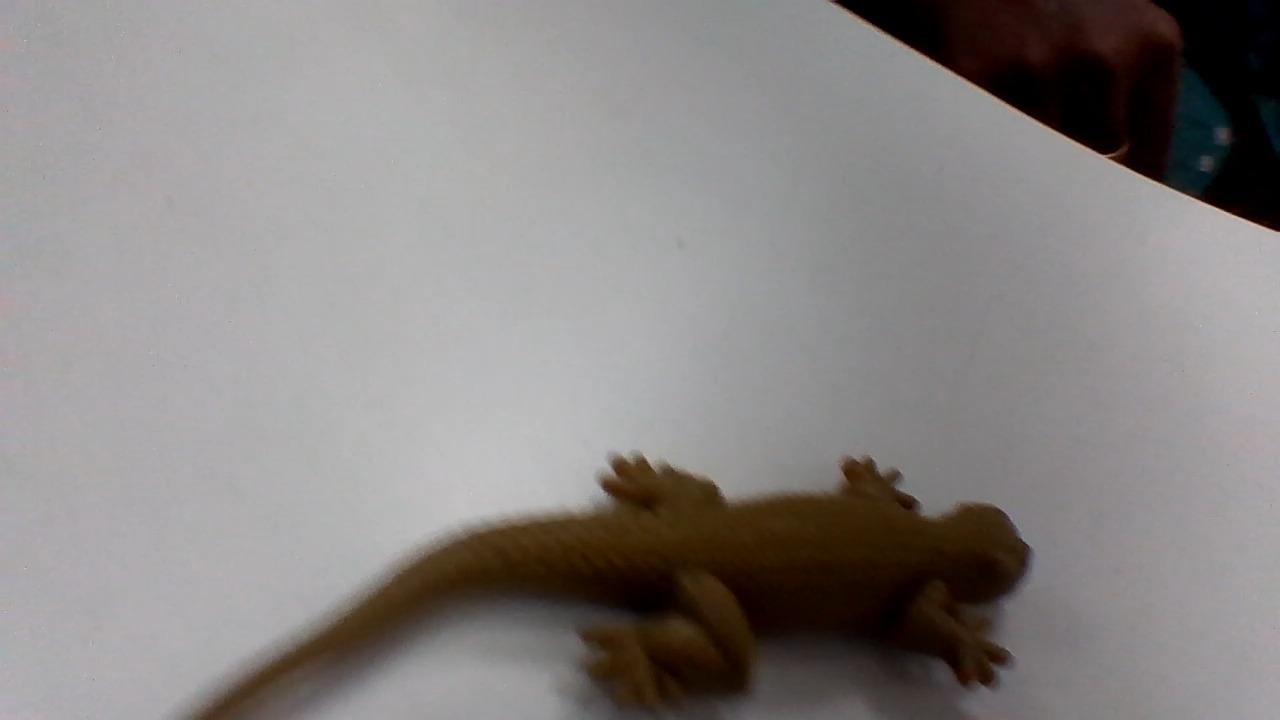lizard: (155, 447, 1032, 720)
